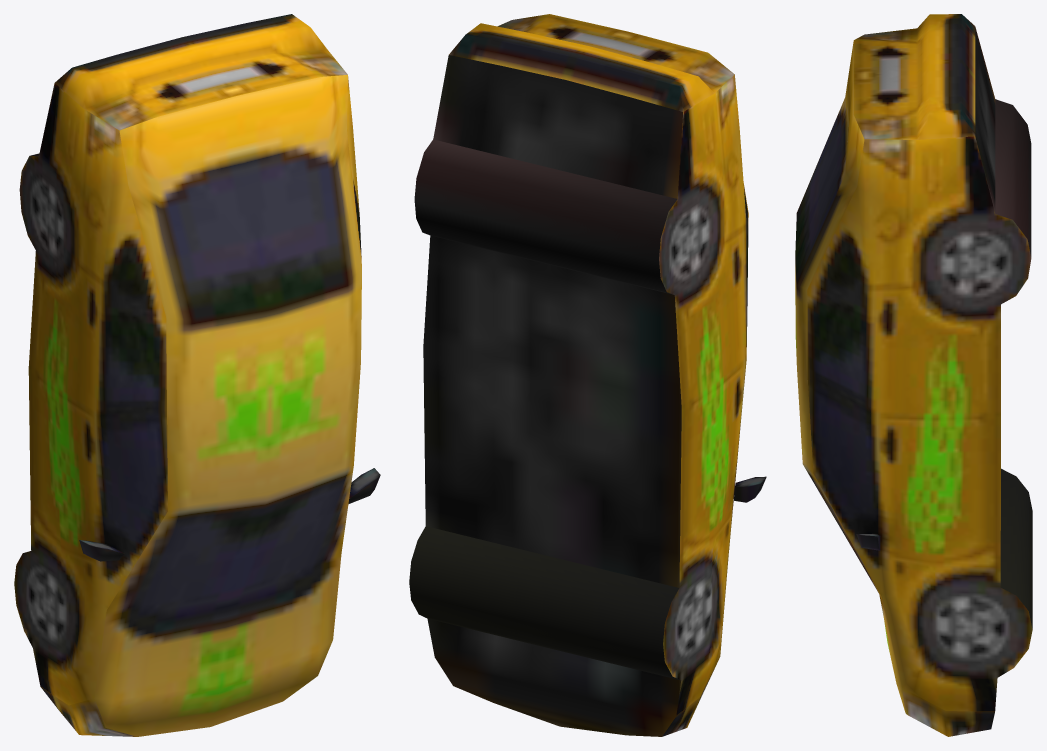
Rendered from RaceCar6_L.fbx.
The picture shows the model from 3 angles, left to right: view 1: azimuth 30°, elevation 25°; view 2: azimuth 150°, elevation 25°; view 3: azimuth 270°, elevation 25°; orthographic projection. The views are drawn at different scales.
Parts seen in each view (by area): view 1: RaceCar6_L; view 2: RaceCar6_L; view 3: RaceCar6_L.
Boxes of the visible parts, left/top/right/bottom form: RaceCar6_L: left=14, top=14, right=380, bottom=736; RaceCar6_L: left=409, top=14, right=766, bottom=736; RaceCar6_L: left=795, top=14, right=1032, bottom=736.
Size of the model in its own units: 196 by 433 by 145.
1 material, 1 textured.
